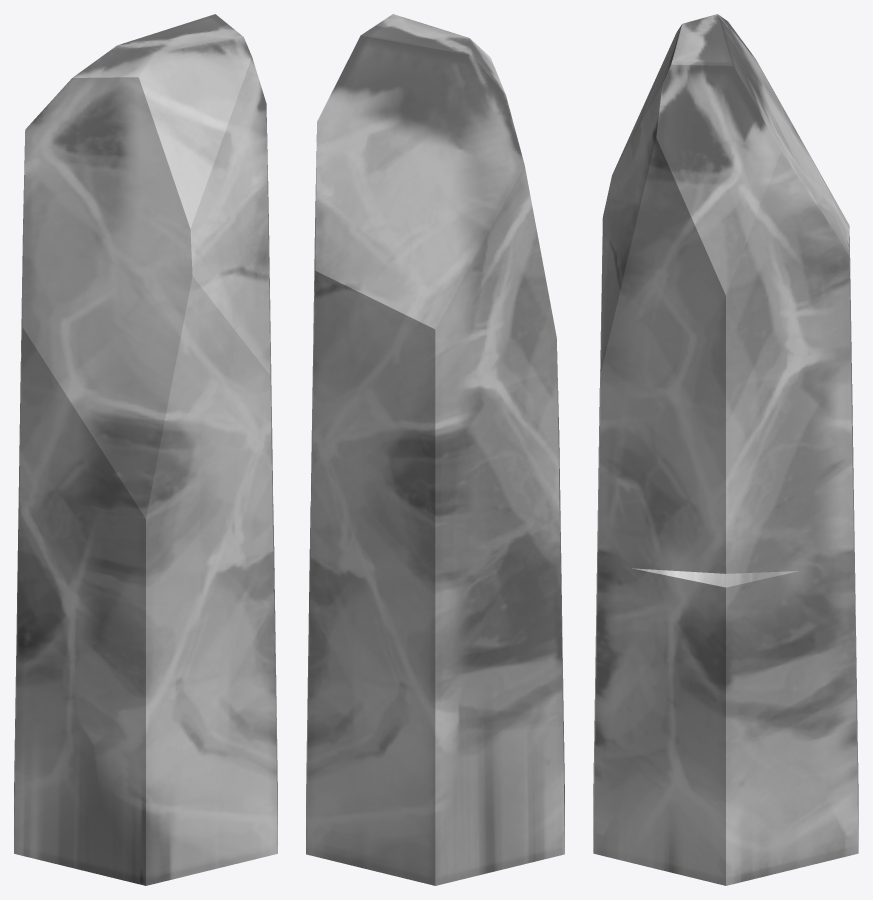
File: Crystal02.fbx
3 renders of one model, left to right at view 1: azimuth 30°, elevation 25°; view 2: azimuth 150°, elevation 25°; view 3: azimuth 270°, elevation 25°, orthographic. The views are drawn at different scales.
Visible parts, largest first — view 1: Crystal02; view 2: Crystal02; view 3: Crystal02.
Part boxes in pixels (x1,y1,x2,y2): Crystal02: (14, 14, 277, 885); Crystal02: (306, 14, 564, 885); Crystal02: (593, 14, 858, 885).
Size of the model in its own units: 0.9476 by 2.7 by 0.8206.
